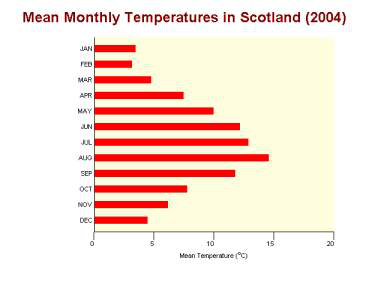canvas: (96, 38, 329, 228)
title: (21, 9, 349, 29)
x-axis: (92, 229, 338, 239)
x-labels: (86, 239, 340, 247)
x-title: (177, 248, 253, 261)
y-axis: (93, 36, 97, 231)
y-labels: (77, 40, 92, 229)
